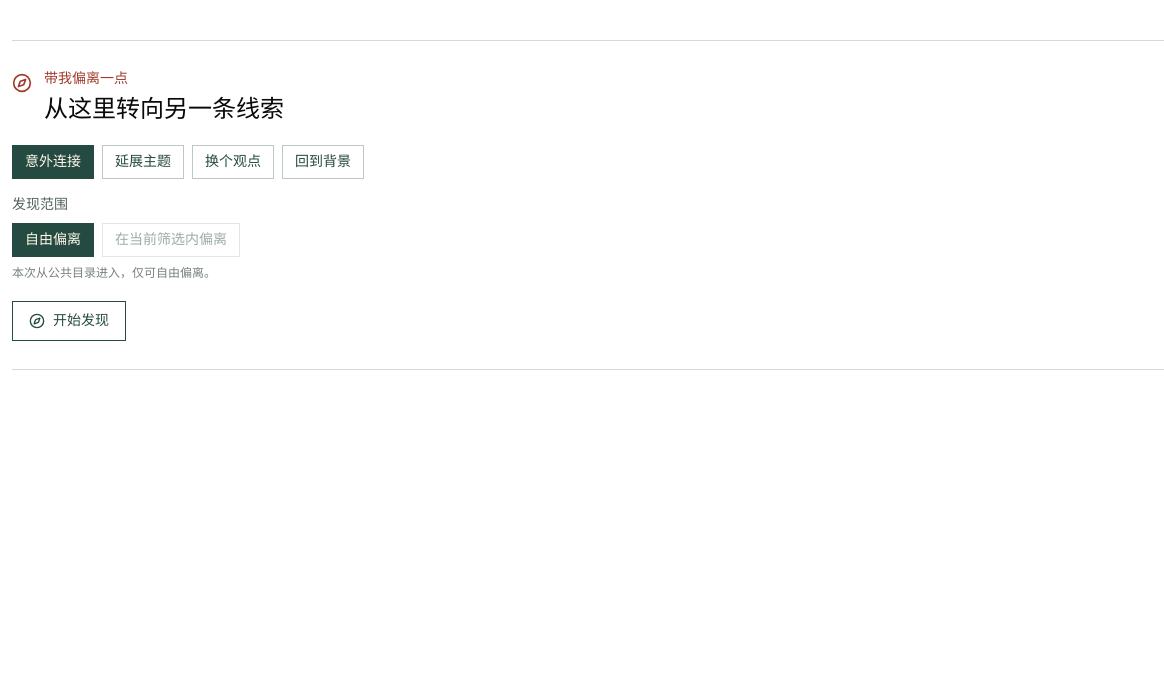
Test case: DiscoveryPanel › labels the narration source separately from the curated relationship explanation
The width and height of the screenshot is (1164, 696).
Click the button "开始发现".
click(69, 321)  # box [12,301,126,341]
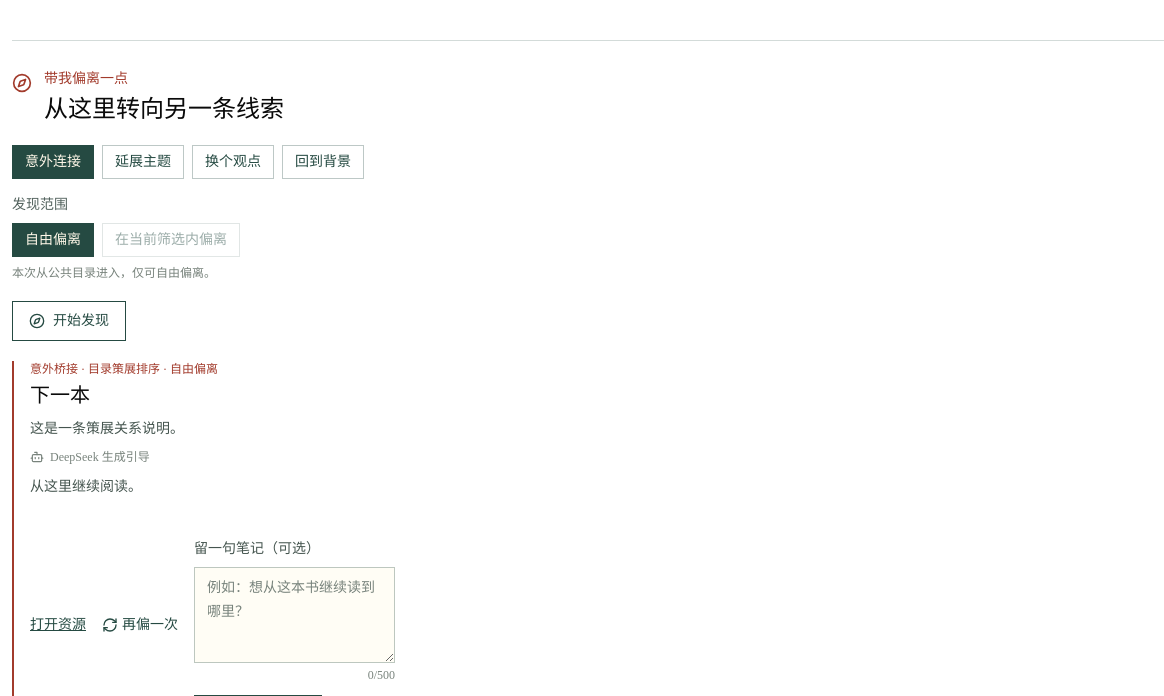
Expected: the text "DeepSeek 生成引导" is shown, [30,449,150,465]
Expected: the text "这是一条策展关系说明。" is shown, [30,421,184,436]
